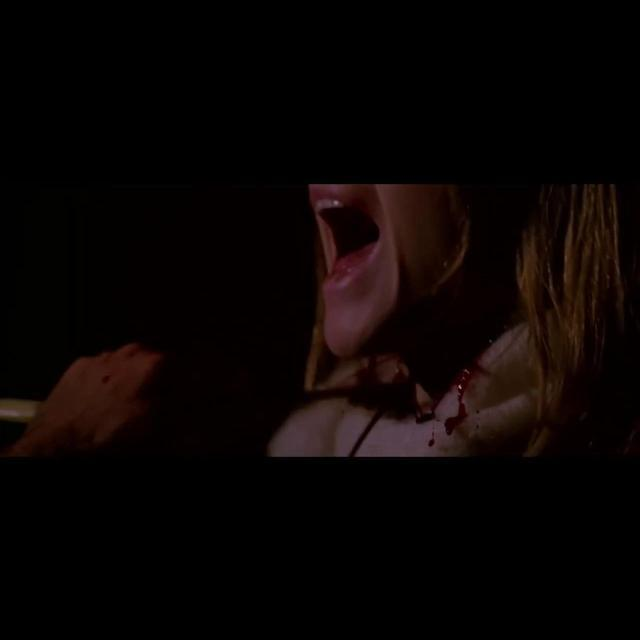blood: (306, 354, 442, 424), (446, 362, 485, 435)
